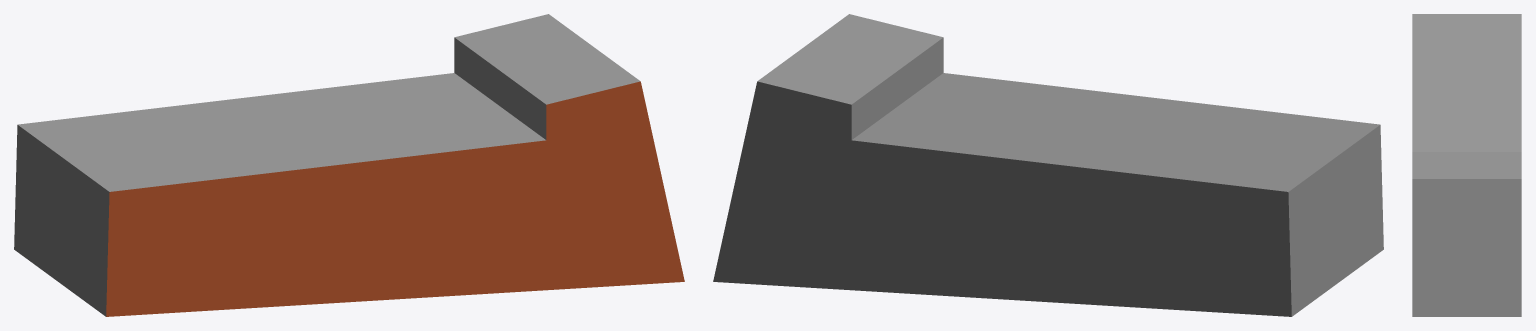
File: construction_4326_assumed_A_Casa_h6m.obj
3 renders of one model, left to right at view 1: azimuth 30°, elevation 25°; view 2: azimuth 150°, elevation 25°; view 3: azimuth 270°, elevation 25°, orthographic. The views are drawn at different scales.
Parts seen in each view (by area): view 1: construction_4326_assumed_A_Casa; view 2: construction_4326_assumed_A_Casa; view 3: construction_4326_assumed_A_Casa.
Part boxes in pixels (left/top/right/bottom): construction_4326_assumed_A_Casa: left=14, top=14, right=684, bottom=316; construction_4326_assumed_A_Casa: left=713, top=14, right=1383, bottom=316; construction_4326_assumed_A_Casa: left=1412, top=14, right=1521, bottom=316.
Bounding box in the file's own units: 21.77 × 8.28 × 6.
